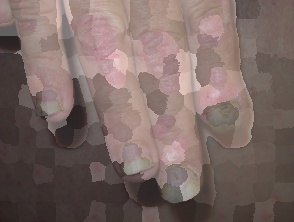Nail_psoriasis: (184, 60, 261, 150), (101, 124, 165, 189), (149, 149, 215, 212), (30, 78, 71, 125)
